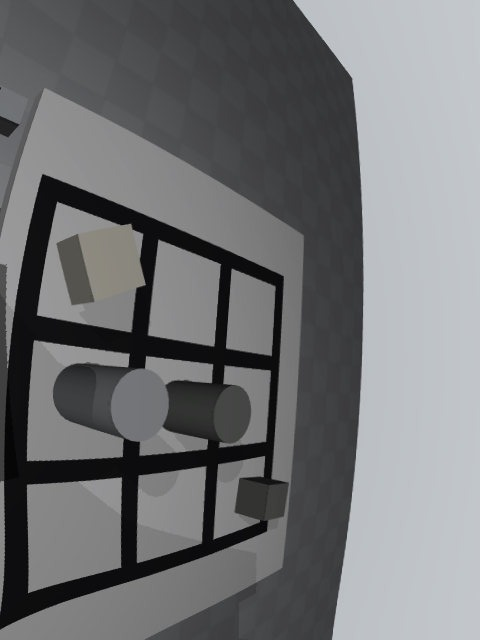can: (53, 364, 169, 442)
cube: (234, 476, 289, 521)
cylinder: (163, 381, 251, 444)
foam: (56, 224, 146, 305)
